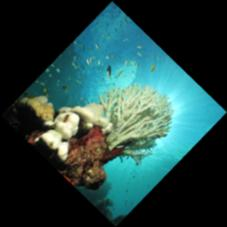bleached_corals: (78, 67, 183, 171)
